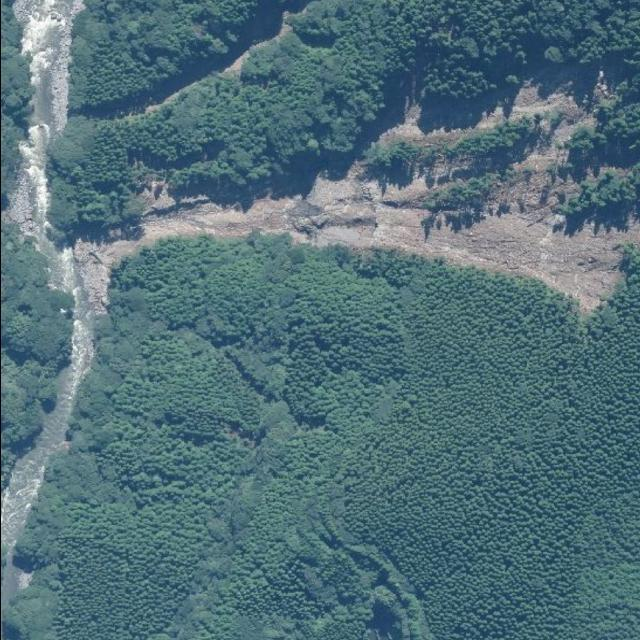landslide: (0, 0, 640, 601)
